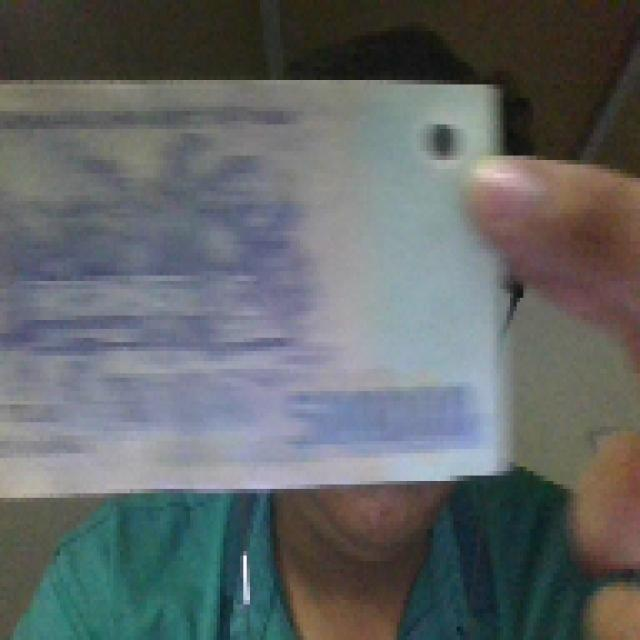500 000 VND: (0, 71, 520, 497)
